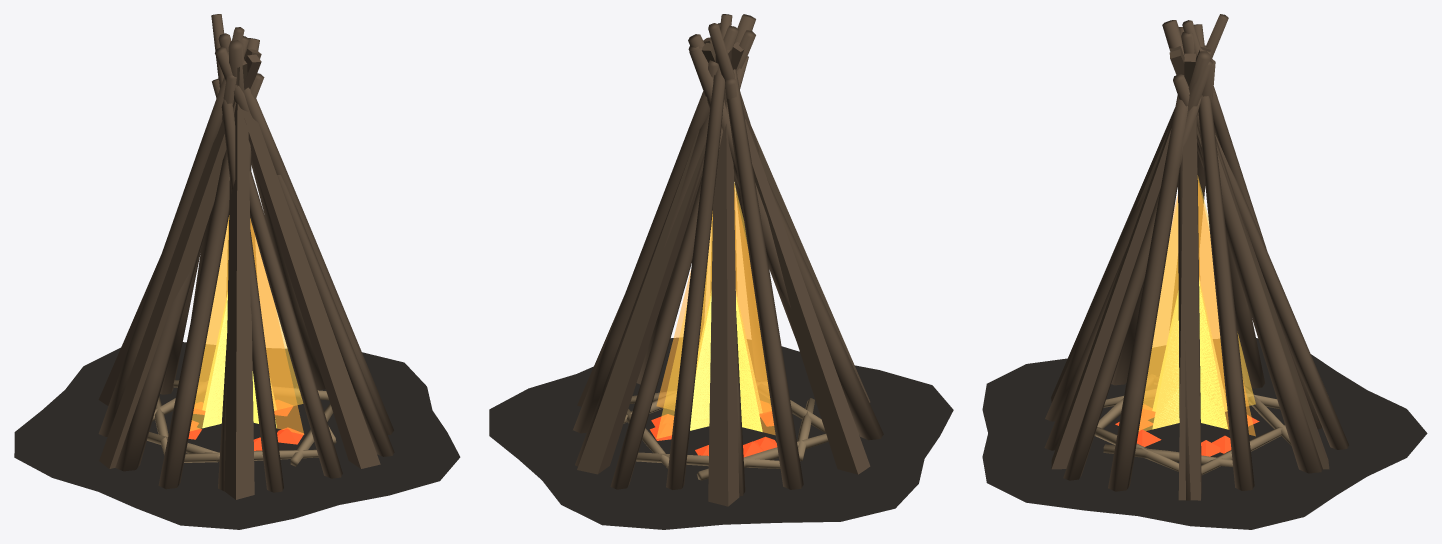
File: campfire.glb
3 renders of one model, left to right at view 1: azimuth 30°, elevation 25°; view 2: azimuth 150°, elevation 25°; view 3: azimuth 270°, elevation 25°, orthographic. The views are drawn at different scales.
Parts seen in each view (by area): view 1: Campfire_Sticks, Campfire_Ash, Campfire_Far, Campfire_FlameOuter, Campfire_Kindling, Campfire_FlameCore, Campfire_Coals; view 2: Campfire_Ash, Campfire_Sticks, Campfire_Far, Campfire_FlameOuter, Campfire_FlameCore, Campfire_Kindling, Campfire_Coals; view 3: Campfire_Sticks, Campfire_Ash, Campfire_Far, Campfire_FlameOuter, Campfire_FlameCore, Campfire_Kindling, Campfire_Coals.
Boxes of the visible parts, x1=… form: Campfire_Sticks: x1=98, y1=14, x2=394, y2=492; Campfire_Ash: x1=14, y1=342, x2=460, y2=529; Campfire_Far: x1=98, y1=48, x2=380, y2=499; Campfire_FlameOuter: x1=190, y1=215, x2=304, y2=434; Campfire_Kindling: x1=147, y1=380, x2=336, y2=466; Campfire_FlameCore: x1=202, y1=292, x2=276, y2=428; Campfire_Coals: x1=188, y1=400, x2=303, y2=450; Campfire_Ash: x1=489, y1=337, x2=953, y2=529; Campfire_Sticks: x1=573, y1=14, x2=883, y2=496; Campfire_Far: x1=577, y1=37, x2=870, y2=506; Campfire_FlameOuter: x1=656, y1=182, x2=775, y2=438; Campfire_FlameCore: x1=690, y1=291, x2=762, y2=431; Campfire_Kindling: x1=623, y1=381, x2=828, y2=480; Campfire_Coals: x1=650, y1=401, x2=777, y2=457; Campfire_Sticks: x1=1044, y1=14, x2=1348, y2=500; Campfire_Ash: x1=982, y1=338, x2=1427, y2=529; Campfire_Far: x1=1051, y1=45, x2=1329, y2=500; Campfire_FlameOuter: x1=1138, y1=175, x2=1255, y2=436; Campfire_FlameCore: x1=1152, y1=278, x2=1228, y2=429; Campfire_Kindling: x1=1094, y1=374, x2=1291, y2=474; Campfire_Coals: x1=1115, y1=405, x2=1259, y2=456.
Bounding box in the file's own units: 1.14 × 1.19 × 1.11.
